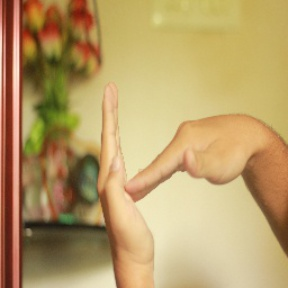Z: (87, 74, 256, 266)
